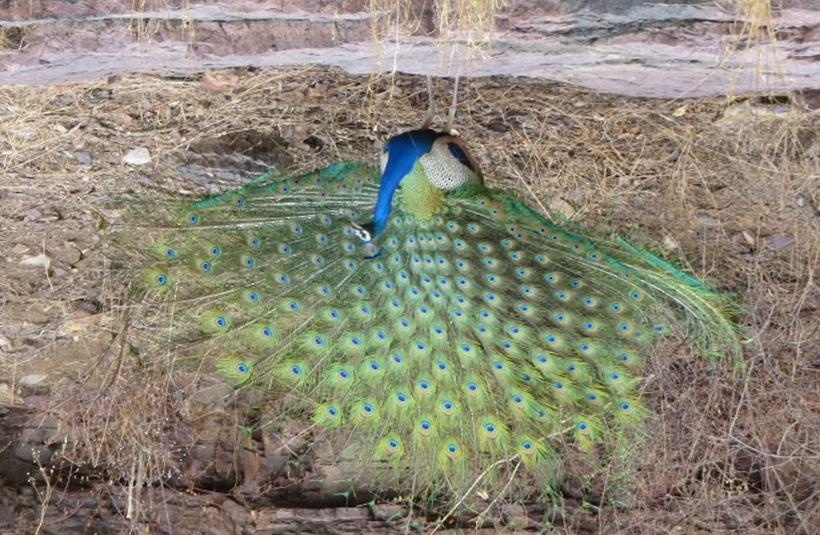peacock: (226, 94, 684, 430)
